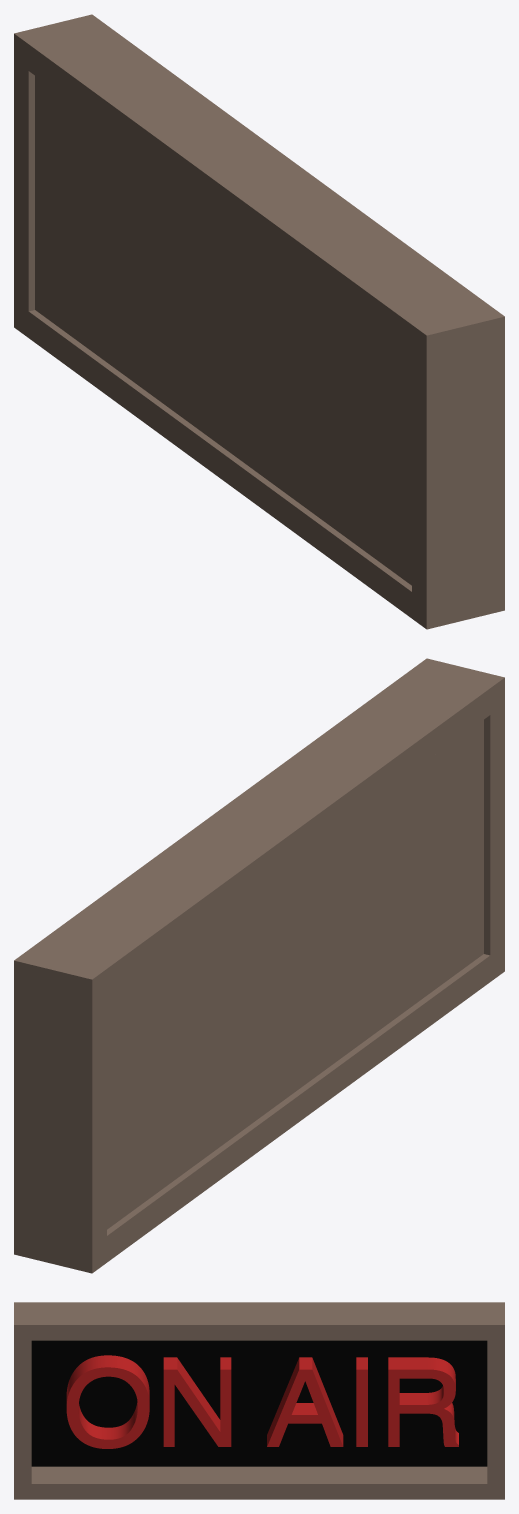
The model's file is on_air_sign.glb.
3 views of the same model, one above another, from view 1: azimuth 30°, elevation 25°; view 2: azimuth 150°, elevation 25°; view 3: azimuth 270°, elevation 25° (orthographic). The views are drawn at different scales.
Parts seen in each view (by area): view 1: Object_2; view 2: Object_2; view 3: Object_2.
Boxes of the visible parts, x1,y1,x2,y2 form: Object_2: [14, 14, 504, 629]; Object_2: [14, 658, 504, 1273]; Object_2: [14, 1302, 504, 1499].
Bounding box in the file's own units: 0.1556 × 0.5588 × 1.42.
